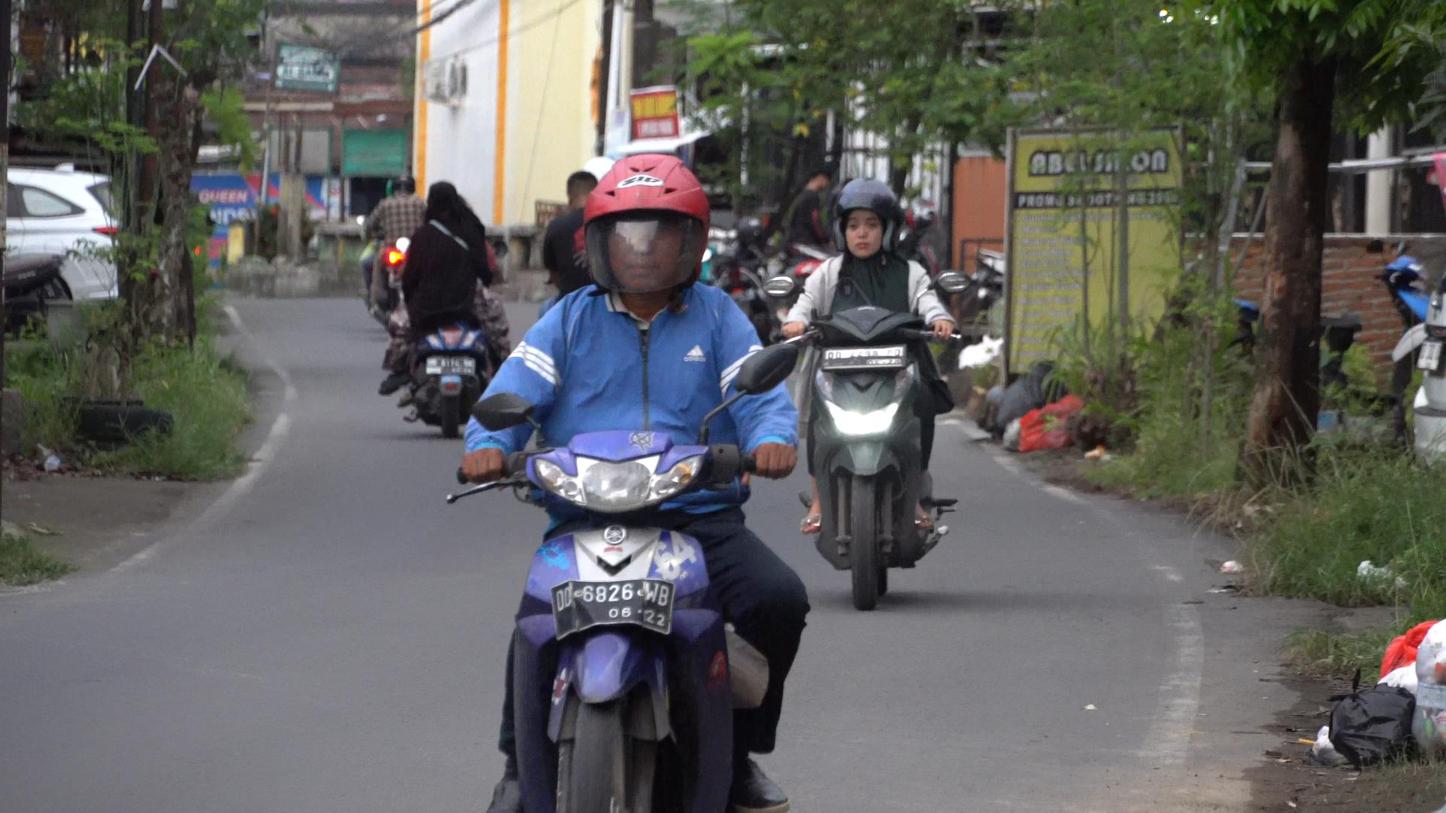number-plate: (545, 586, 673, 631)
